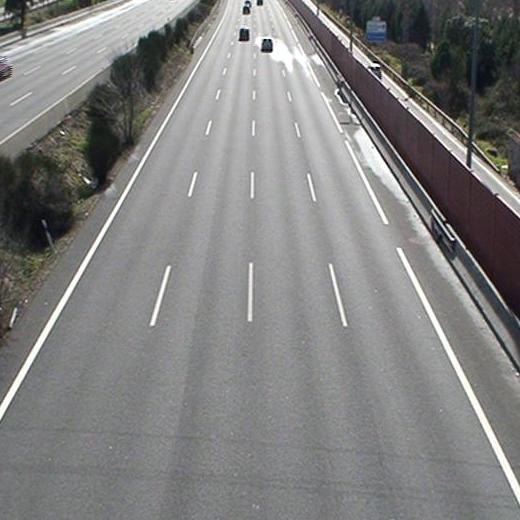car: (261, 38, 273, 52), (239, 28, 250, 41)
